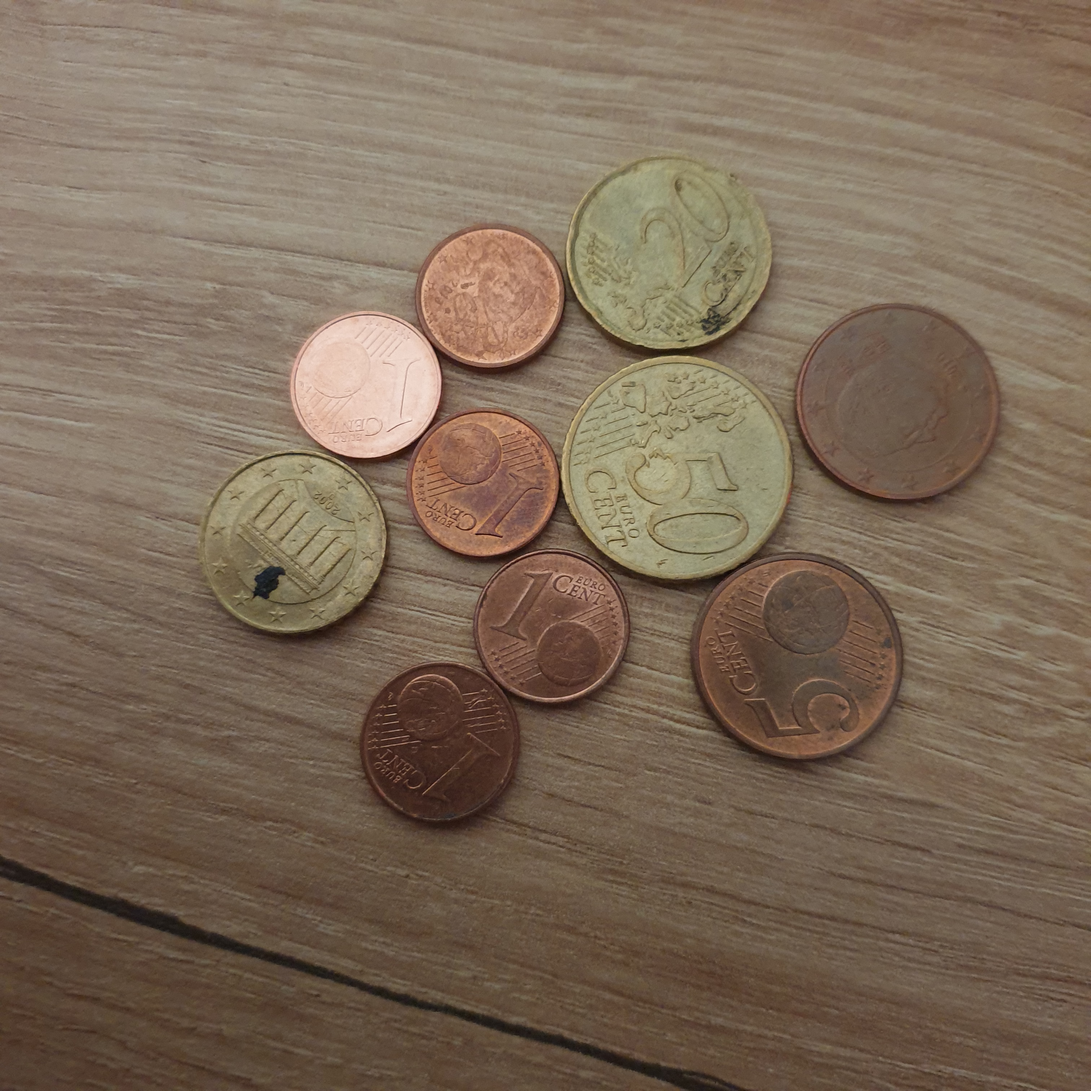1 cent: (351, 662, 523, 826), (470, 552, 630, 706), (400, 406, 560, 560), (285, 304, 444, 458), (409, 221, 569, 374)
10 cent: (196, 441, 393, 636)
20 cent: (558, 140, 778, 348)
5 cent: (788, 298, 1012, 519), (685, 545, 908, 765)
50 cent: (565, 345, 806, 584)
